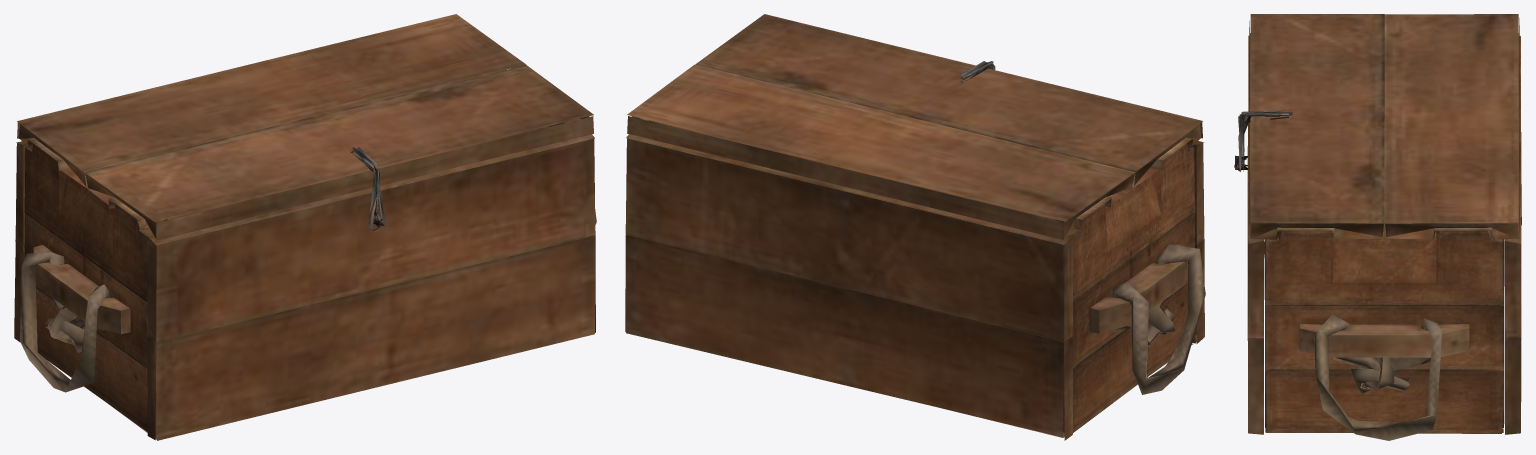
File: wooden_crate_01.glb
3 renders of one model, left to right at view 1: azimuth 30°, elevation 25°; view 2: azimuth 150°, elevation 25°; view 3: azimuth 270°, elevation 25°, orthographic. The views are drawn at different scales.
Parts seen in each view (by area): view 1: wooden_crate_01, wooden_crate_01_lid, wooden_crate_01_latch; view 2: wooden_crate_01, wooden_crate_01_lid; view 3: wooden_crate_01_lid, wooden_crate_01, wooden_crate_01_latch.
Part boxes in pixels (x1,y1,x2,y2): wooden_crate_01: (14,120,596,440); wooden_crate_01_lid: (17,14,593,240); wooden_crate_01_latch: (350,147,385,231); wooden_crate_01: (625,120,1205,440); wooden_crate_01_lid: (627,14,1202,239); wooden_crate_01_lid: (1249,14,1519,239); wooden_crate_01: (1234,35,1521,440); wooden_crate_01_latch: (1238,110,1292,171).
Size of the model in its own units: 0.8222 by 0.3437 by 0.4075.
Materials: 1 (1 with a texture image).
